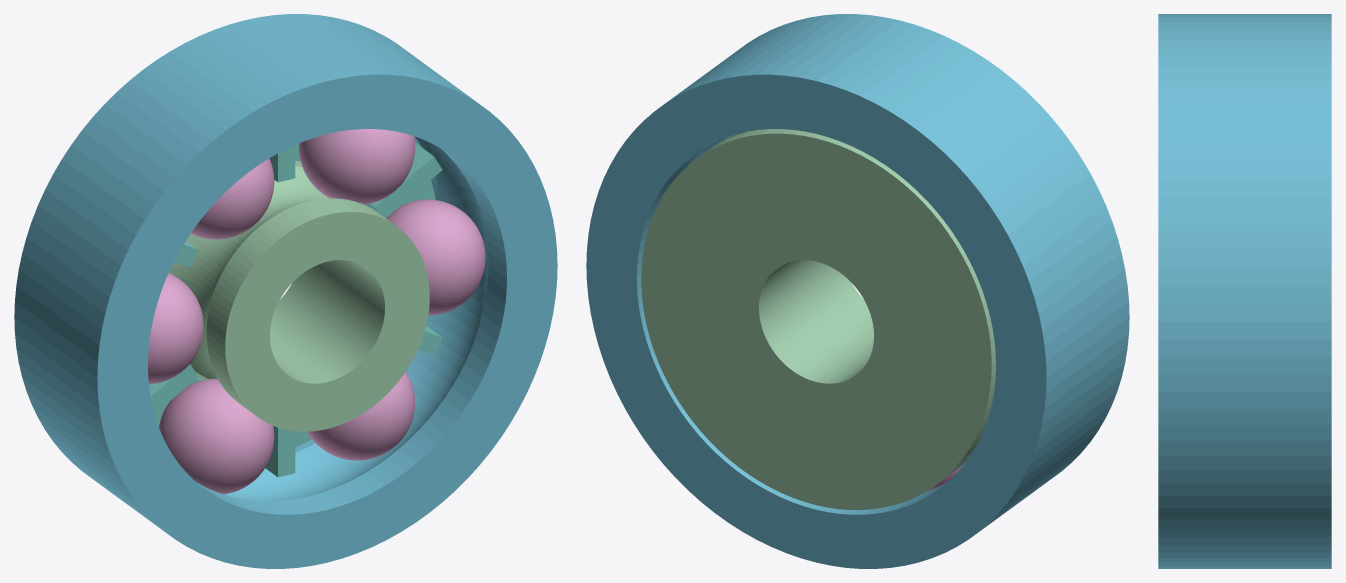
File: printed_ball_bearing_demo.glb
3 renders of one model, left to right at view 1: azimuth 30°, elevation 25°; view 2: azimuth 150°, elevation 25°; view 3: azimuth 270°, elevation 25°, orthographic. The views are drawn at different scales.
Parts seen in each view (by area): view 1: bearing_outer_race, bearing_inner_race, bearing_balls, bearing_ball_cage; view 2: bearing_outer_race, bearing_inner_race; view 3: bearing_outer_race.
Boxes of the visible parts, <box> form: bearing_outer_race: <box>14,14,557,568</box>; bearing_inner_race: <box>169,161,429,431</box>; bearing_balls: <box>148,129,485,494</box>; bearing_ball_cage: <box>149,143,442,477</box>; bearing_outer_race: <box>586,14,1129,568</box>; bearing_inner_race: <box>641,129,995,509</box>; bearing_outer_race: <box>1158,14,1331,568</box>.
Bounding box in the file's own units: 32 × 32 × 10.
